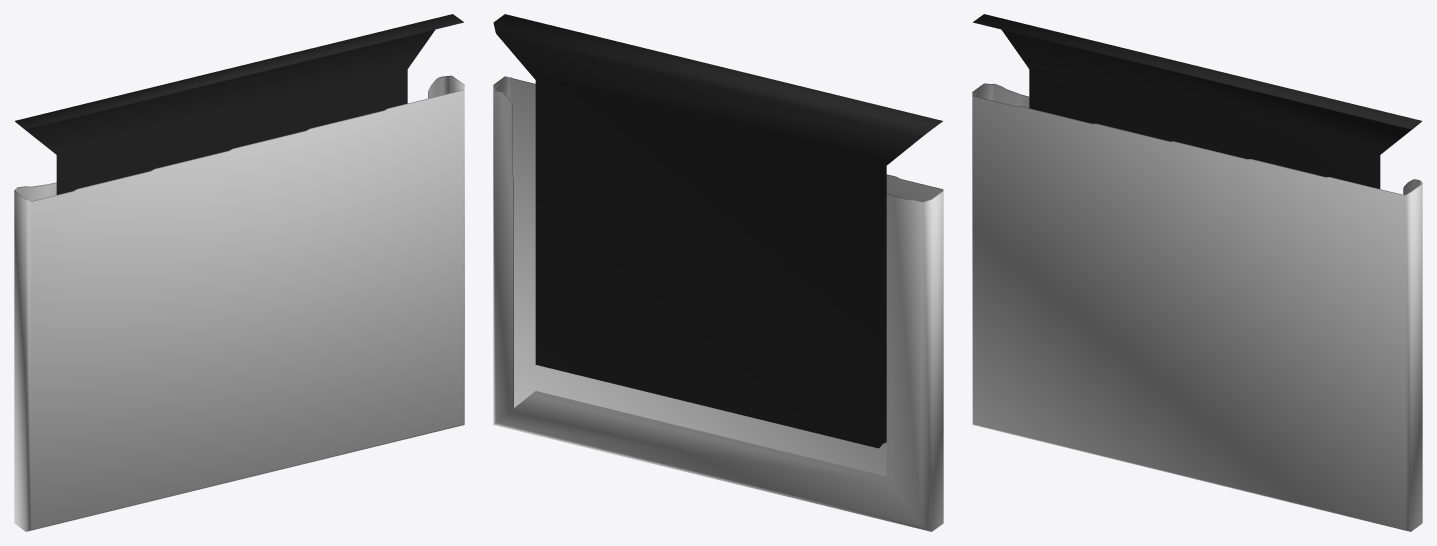
The model's file is Picture.fbx.
The picture shows the model from 3 angles, left to right: view 1: azimuth 30°, elevation 25°; view 2: azimuth 150°, elevation 25°; view 3: azimuth 330°, elevation 25°; orthographic projection.
Visible parts, largest first — view 1: lOW_POLY.002; view 2: lOW_POLY.002; view 3: lOW_POLY.002.
Boxes of the visible parts, box(x1,y1,x2,y2) form: lOW_POLY.002: box(14, 14, 464, 531); lOW_POLY.002: box(493, 14, 943, 531); lOW_POLY.002: box(972, 14, 1422, 531).
Size of the model in its own units: 40.65 by 35.65 by 2.87.
